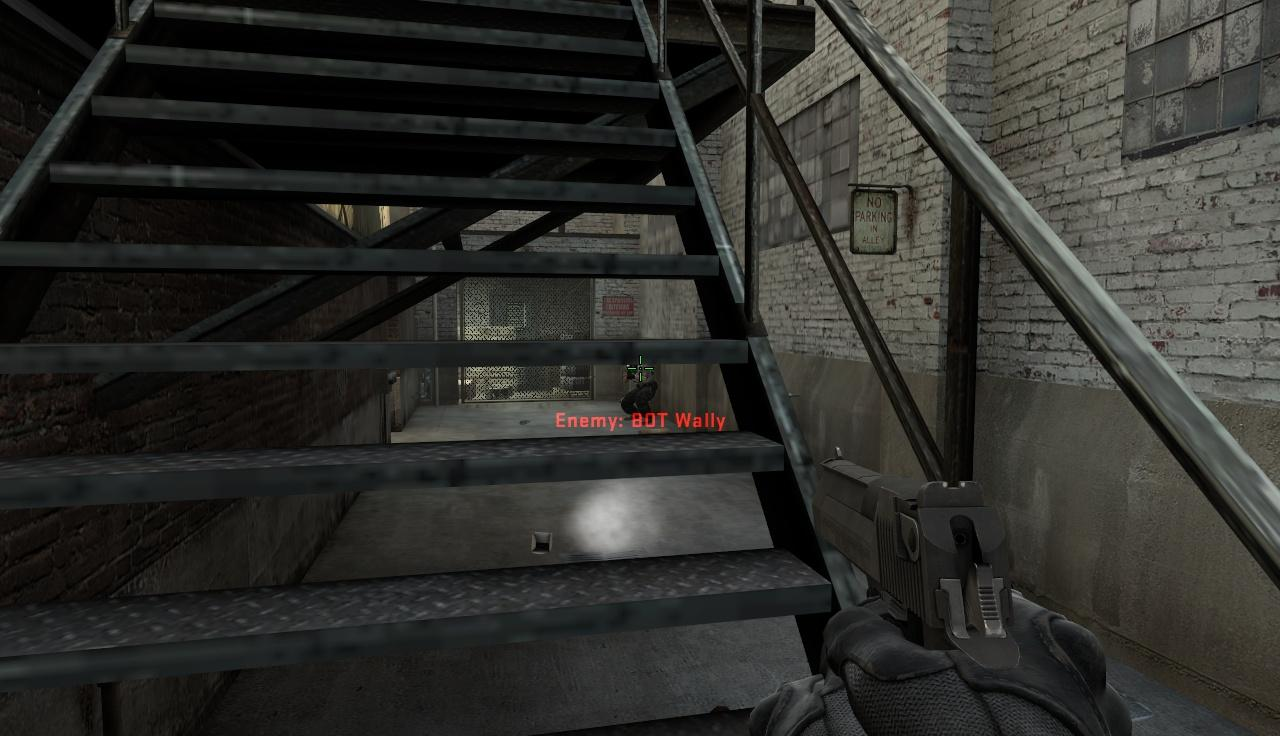pistol: (798, 439, 1122, 733)
tt: (622, 364, 656, 424)
